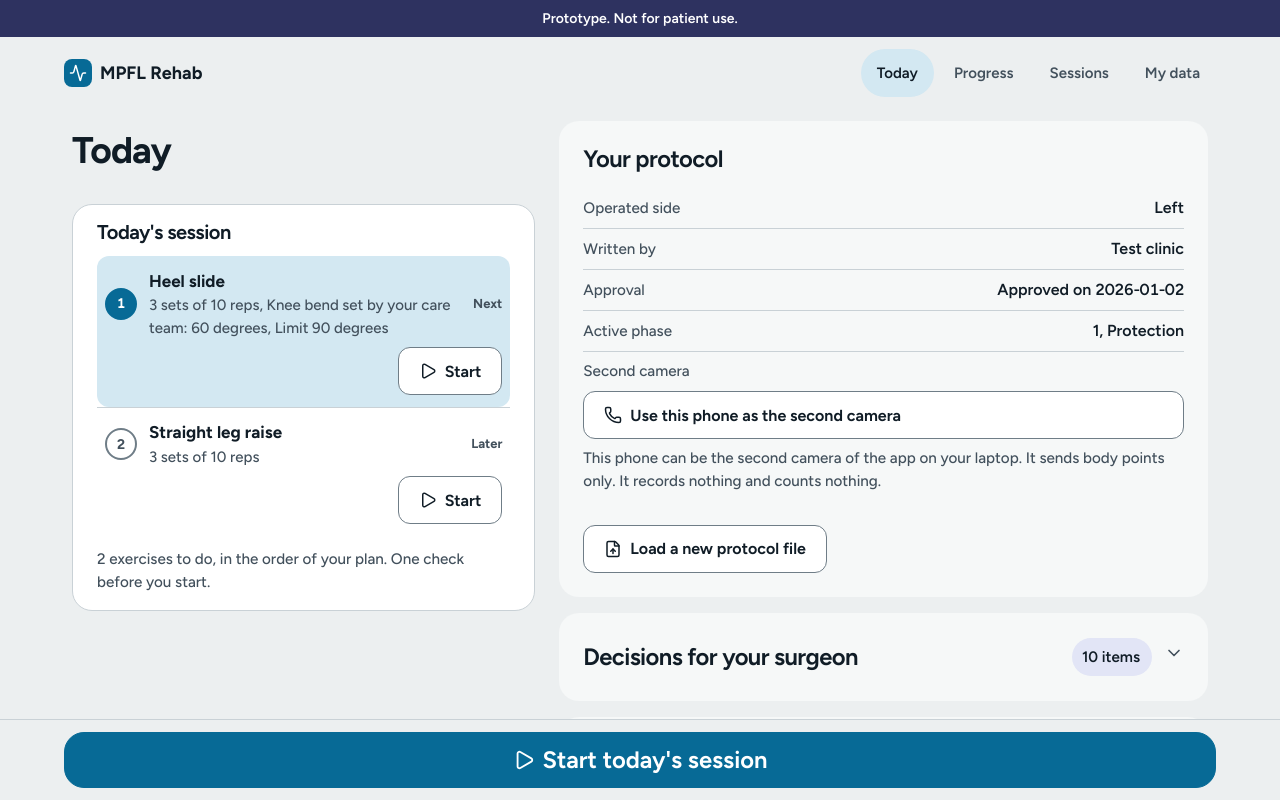
Test case: lazy screens that fail to load › My data: shows the message with a heading and a way back to Home
Expected: the heading "Today" is shown, [72,129,171,172]
Click the button "My data": (1172, 73) [1129,49,1216,97]
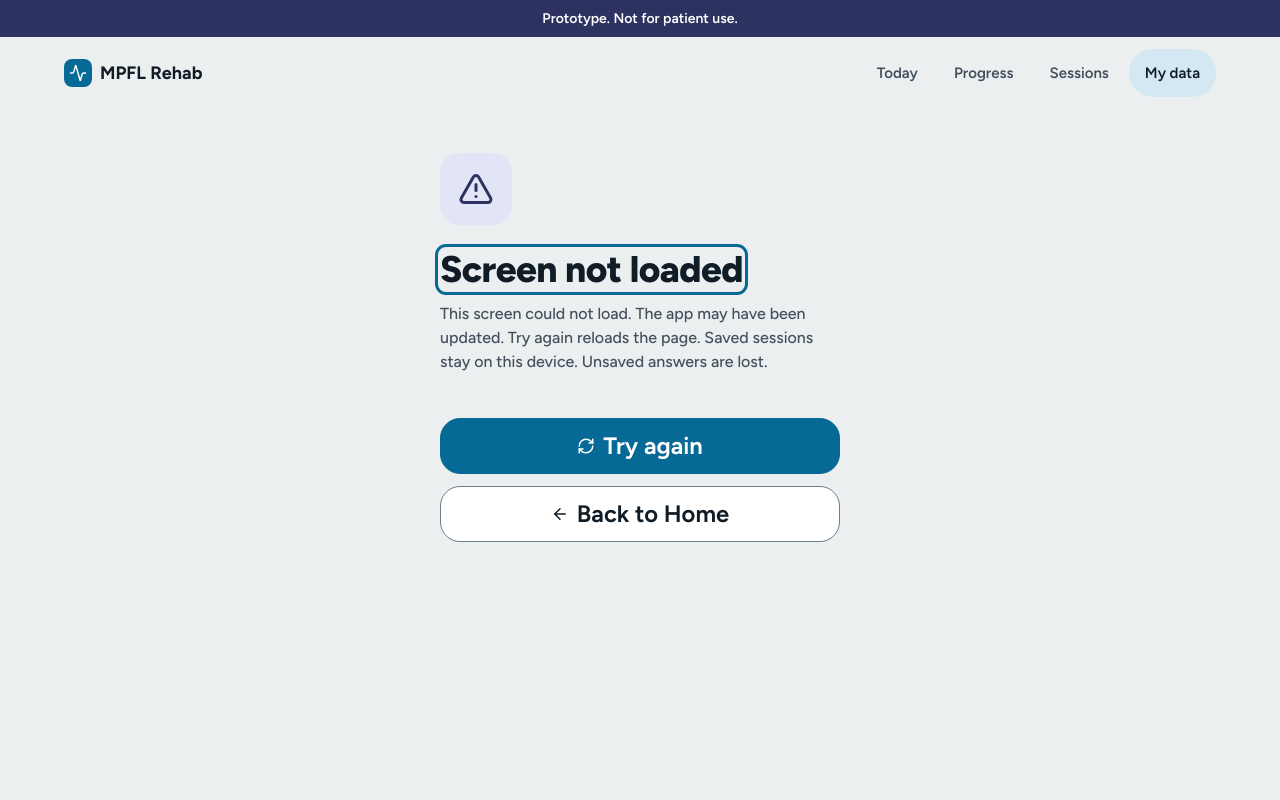
Expected: the text "This screen could not load. The app may have been updated. Try again reloads the page. Saved sessions stay on this devic" is shown, [440,304,813,371]
Expected: the button "Try again" is shown, [440,418,840,474]
Click the button "Back to Home": (640, 514) [440,486,840,542]
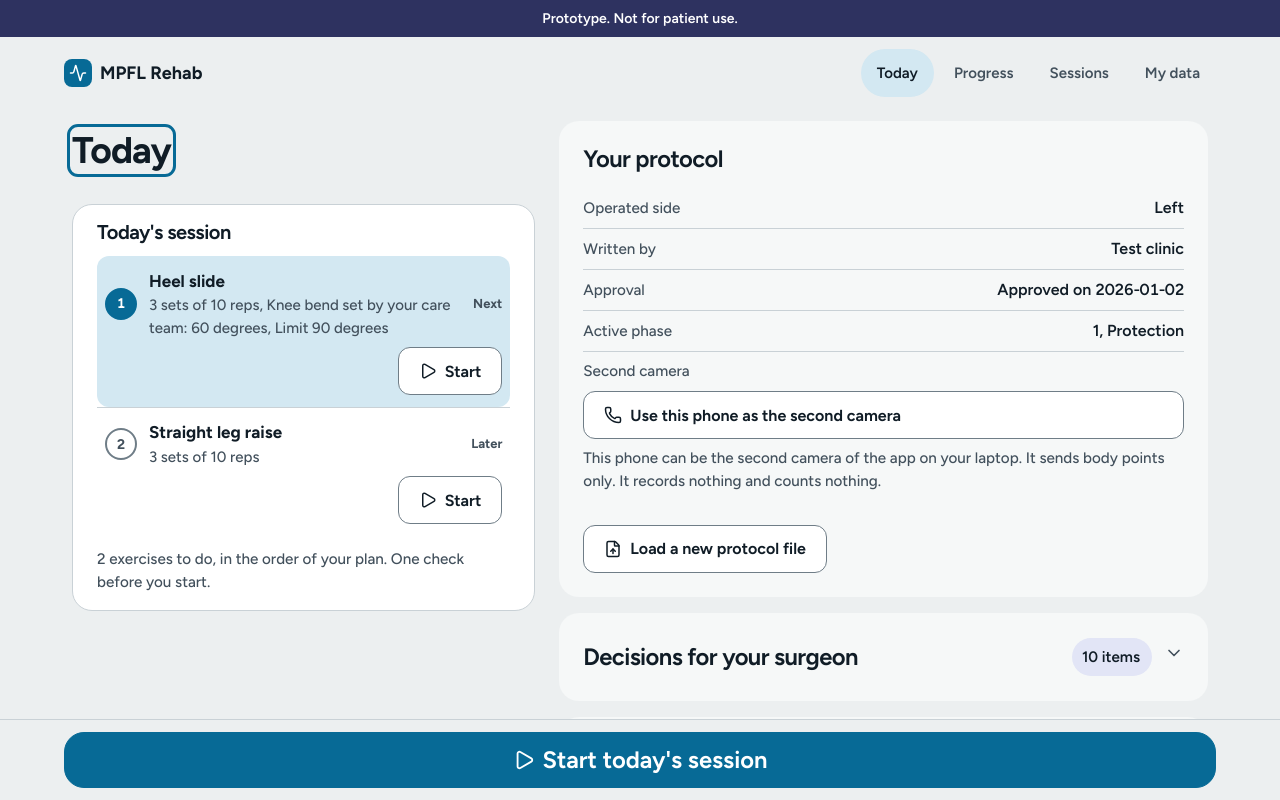
Expected: the heading "Today" is shown, [72,129,171,172]
